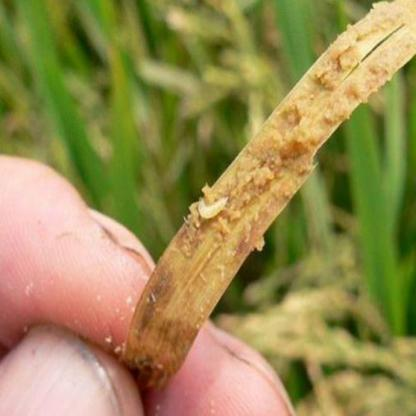whorl-maggot: (195, 193, 237, 226)
